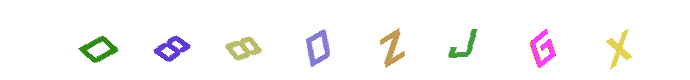8: (198, 0, 278, 80), (219, 0, 299, 80)
D: (132, 0, 212, 80), (266, 0, 346, 80)
G: (502, 0, 582, 80)
J: (371, 0, 451, 80)
X: (578, 0, 658, 80)
Z: (305, 0, 385, 80)
